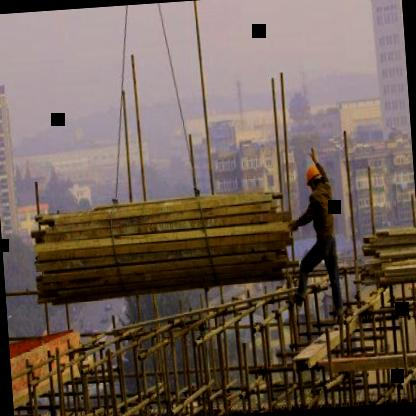helmet: (304, 164, 326, 192)
